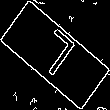L_SW: (30, 26, 80, 84)
